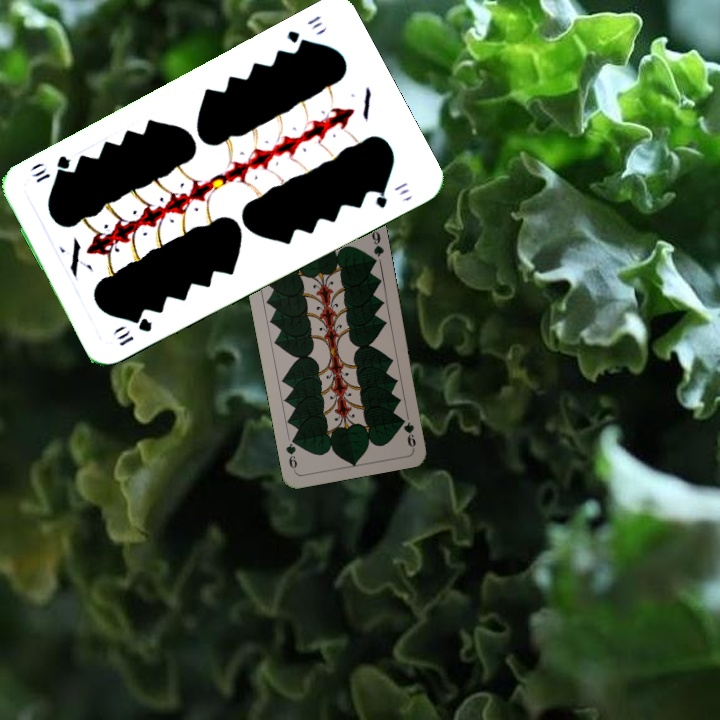G10: (282, 11, 325, 51), (114, 313, 155, 349)
G9: (397, 414, 418, 451)
